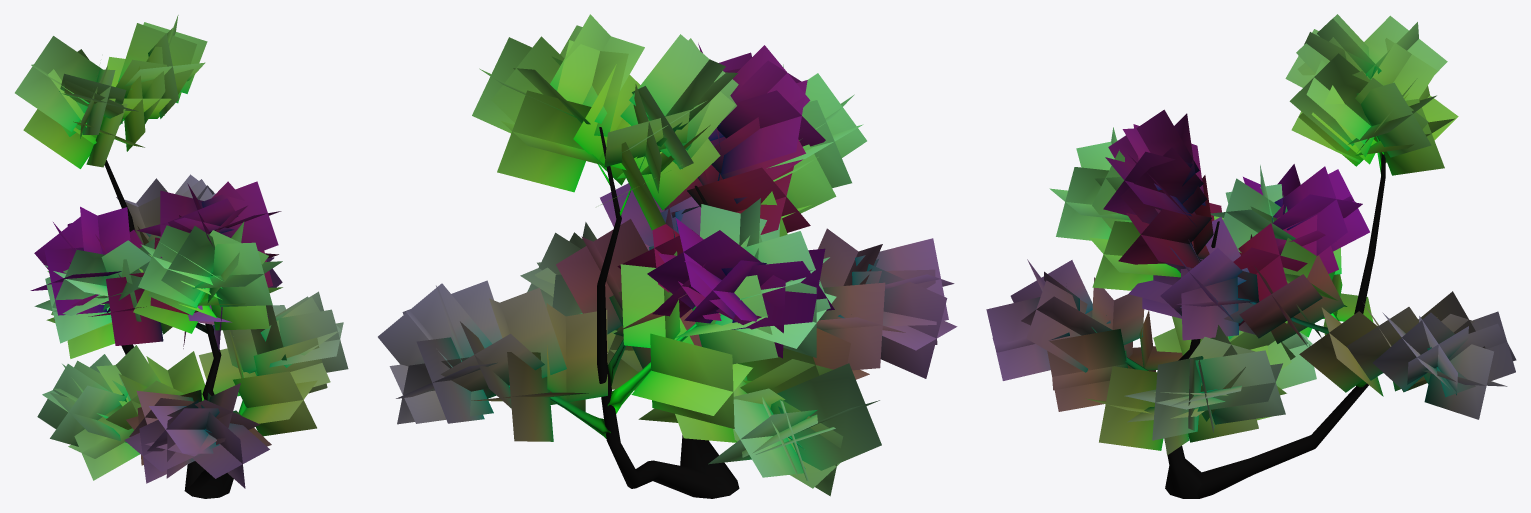
The model's file is URP_P3_Tree_8_LOD_2.fbx.
3 views of the same model, side by side, from view 1: azimuth 30°, elevation 25°; view 2: azimuth 150°, elevation 25°; view 3: azimuth 270°, elevation 25° (orthographic). The views are drawn at different scales.
Parts seen in each view (by area): view 1: Tree_8_LOD_2; view 2: Tree_8_LOD_2; view 3: Tree_8_LOD_2.
Part boxes in pixels (x1,y1,x2,y2): Tree_8_LOD_2: [15, 15, 348, 498]; Tree_8_LOD_2: [378, 14, 957, 498]; Tree_8_LOD_2: [986, 14, 1516, 498].
Size of the model in its own units: 521 by 717 by 768.
